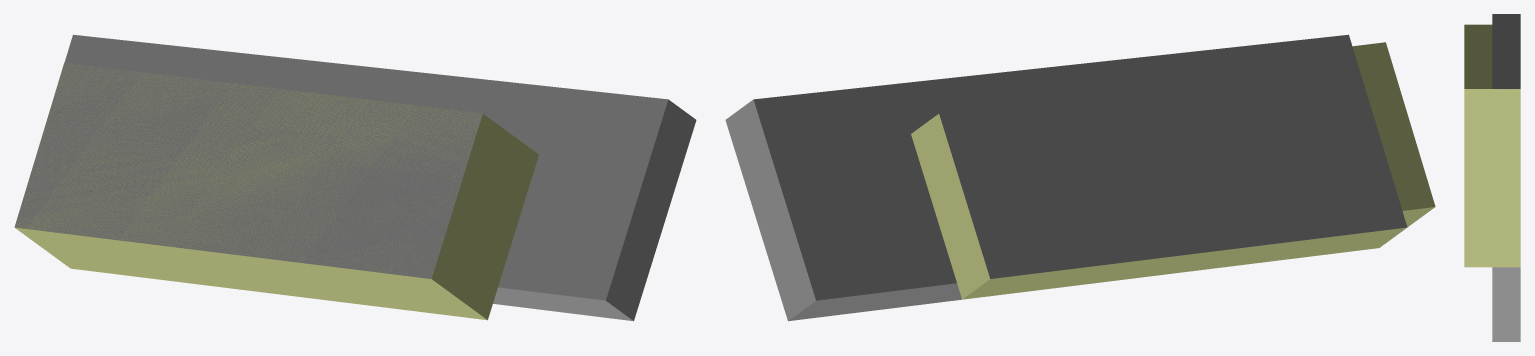
The picture shows the model from 3 angles, left to right: view 1: azimuth 30°, elevation 25°; view 2: azimuth 150°, elevation 25°; view 3: azimuth 270°, elevation 25°; orthographic projection. The views are drawn at different scales.
Parts seen in each view (by area): view 1: 0_3_1_3_3_3_1_2_3; view 2: 0_3_1_3_3_3_1_2_3; view 3: 0_3_1_3_3_3_1_2_3.
Part boxes in pixels (x1,y1,x2,y2): 0_3_1_3_3_3_1_2_3: [14, 34, 696, 321]; 0_3_1_3_3_3_1_2_3: [725, 34, 1435, 321]; 0_3_1_3_3_3_1_2_3: [1464, 14, 1520, 341].
Bounding box in the file's own units: 40.3 × 23.32 × 6.
